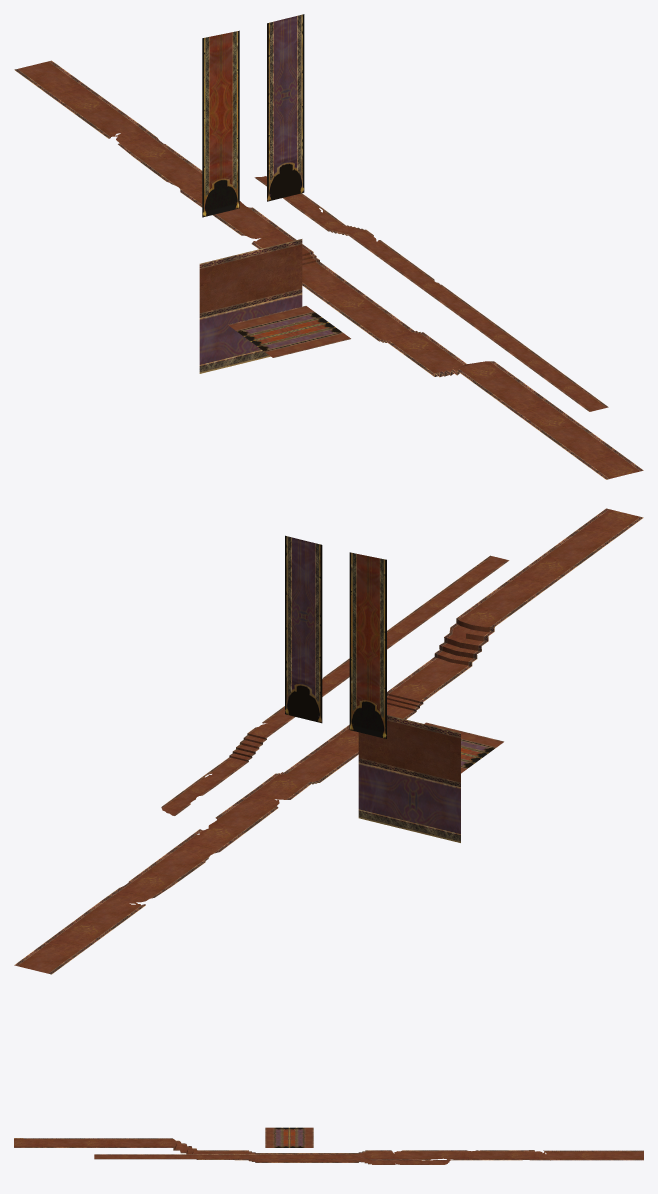
File: d_0001_cloth.FBX
The picture shows the model from 3 angles, top to bottom: view 1: azimuth 30°, elevation 25°; view 2: azimuth 150°, elevation 25°; view 3: azimuth 270°, elevation 25°; orthographic projection. The views are drawn at different scales.
Parts seen in each view (by area): view 1: w_1009_railing1261221, d_0001_Glass005, d_0001_Glass006, w_1009_railing1261235, Plane001, Plane003, Plane002; view 2: w_1009_railing1261221, d_0001_Glass006, d_0001_Glass005, Plane002, w_1009_railing1261235, Plane001, Plane003; view 3: w_1009_railing1261221, w_1009_railing1261235, Plane003.
Part boxes in pixels (left/top/right/bottom): w_1009_railing1261221: left=14, top=60, right=643, bottom=479; d_0001_Glass005: left=202, top=30, right=239, bottom=217; d_0001_Glass006: left=267, top=14, right=304, bottom=201; w_1009_railing1261235: left=254, top=176, right=608, bottom=411; Plane001: left=199, top=239, right=302, bottom=318; Plane003: left=228, top=306, right=350, bottom=357; Plane002: left=199, top=294, right=302, bottom=373; w_1009_railing1261221: left=14, top=508, right=643, bottom=974; d_0001_Glass006: left=285, top=535, right=322, bottom=723; d_0001_Glass005: left=349, top=552, right=386, bottom=738; Plane002: left=358, top=763, right=460, bottom=842; w_1009_railing1261235: left=161, top=555, right=509, bottom=815; Plane001: left=358, top=715, right=460, bottom=787; Plane003: left=424, top=722, right=503, bottom=773; w_1009_railing1261221: left=14, top=1138, right=643, bottom=1162; w_1009_railing1261235: left=94, top=1154, right=450, bottom=1164; Plane003: left=265, top=1127, right=313, bottom=1147.
Size of the model in its own units: 1557 by 2345 by 8385.
